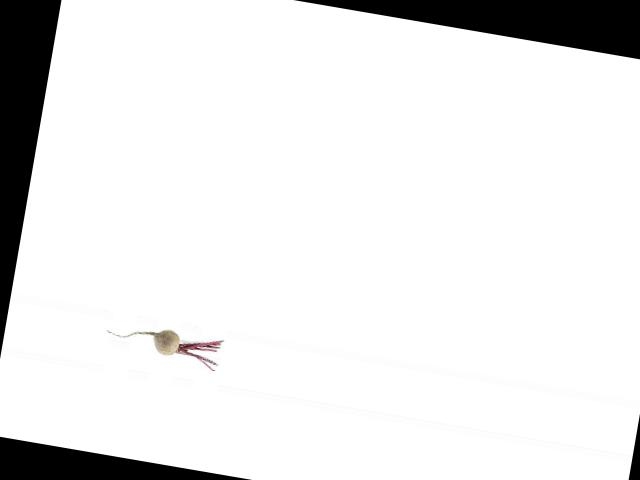beet: (102, 319, 223, 370)
